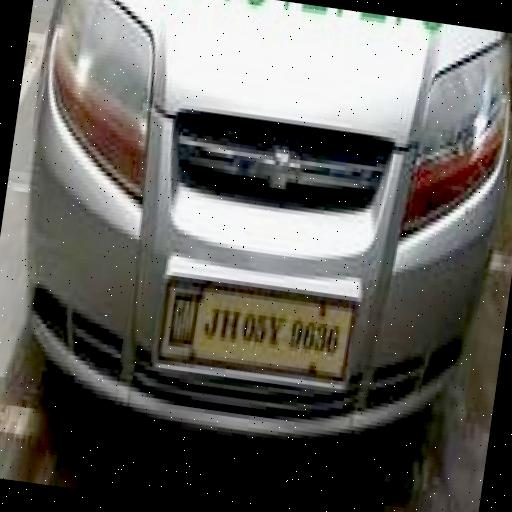license_plate`: (190, 288, 352, 374)
